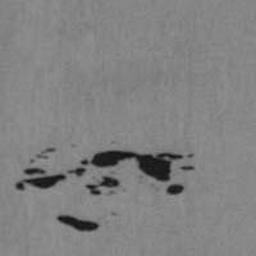Inclusion: (14, 146, 196, 196), (56, 214, 100, 232), (109, 210, 119, 215)
